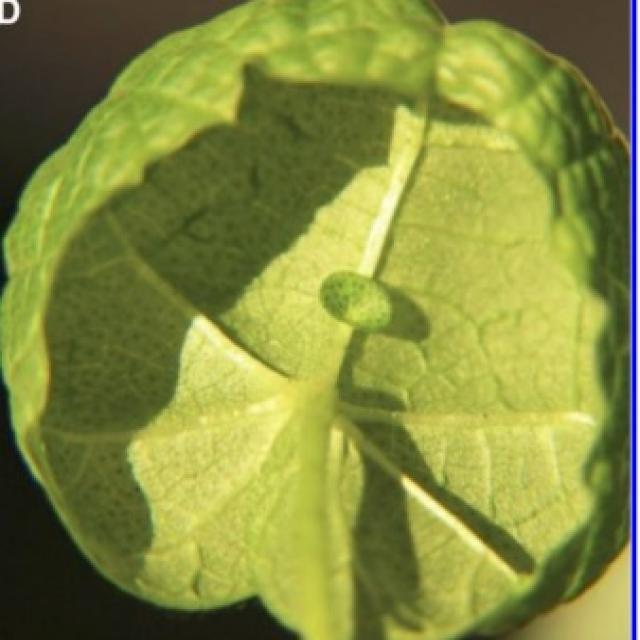Leaf Curl Virus: (84, 50, 619, 614)
